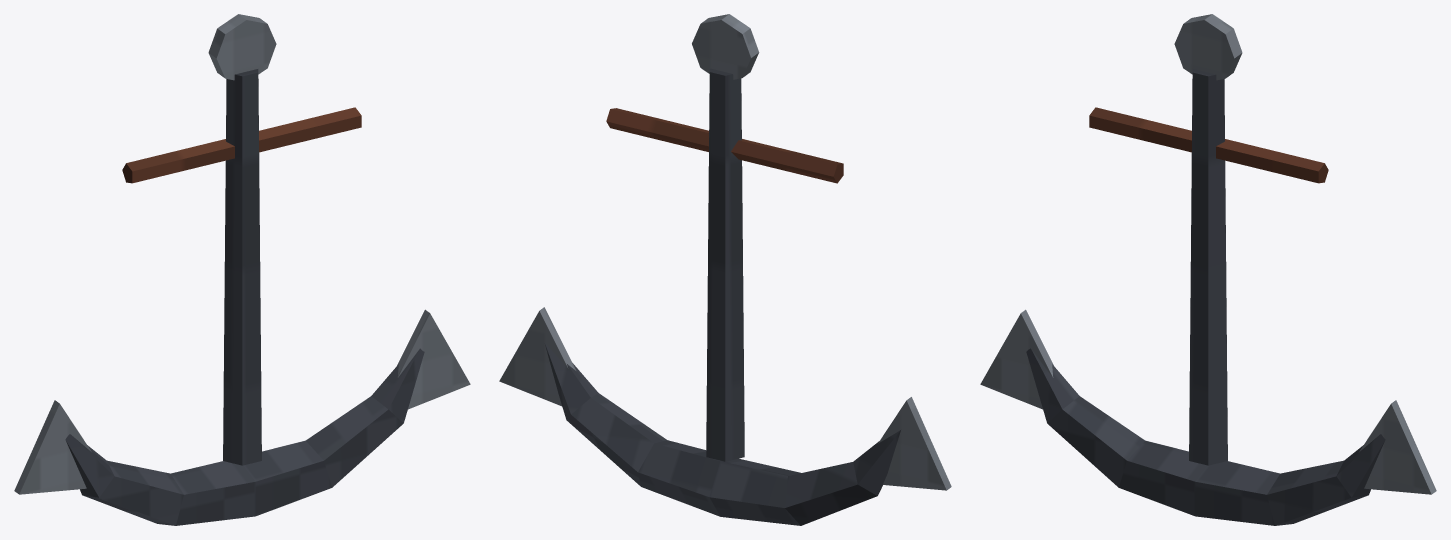
The model's file is SM_Prop_KragAnchor_HQ.glb.
The picture shows the model from 3 angles, left to right: view 1: azimuth 30°, elevation 25°; view 2: azimuth 150°, elevation 25°; view 3: azimuth 330°, elevation 25°; orthographic projection.
Parts seen in each view (by area): view 1: SM_Prop_KragAnchor_HQ; view 2: SM_Prop_KragAnchor_HQ; view 3: SM_Prop_KragAnchor_HQ.
Part boxes in pixels (x1=…): SM_Prop_KragAnchor_HQ: x1=14, y1=14, x2=470, y2=525; SM_Prop_KragAnchor_HQ: x1=499, y1=14, x2=951, y2=525; SM_Prop_KragAnchor_HQ: x1=980, y1=14, x2=1436, y2=525.
Bounding box in the file's own units: 2.56 × 2.71 × 0.2894.
1 material, 1 textured.
